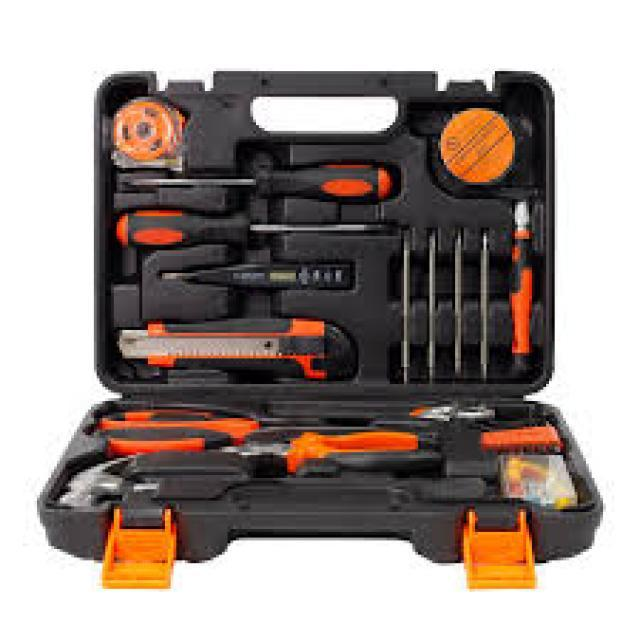hammer: (49, 438, 497, 515)
screwdriver: (116, 202, 402, 253), (116, 158, 402, 204)
